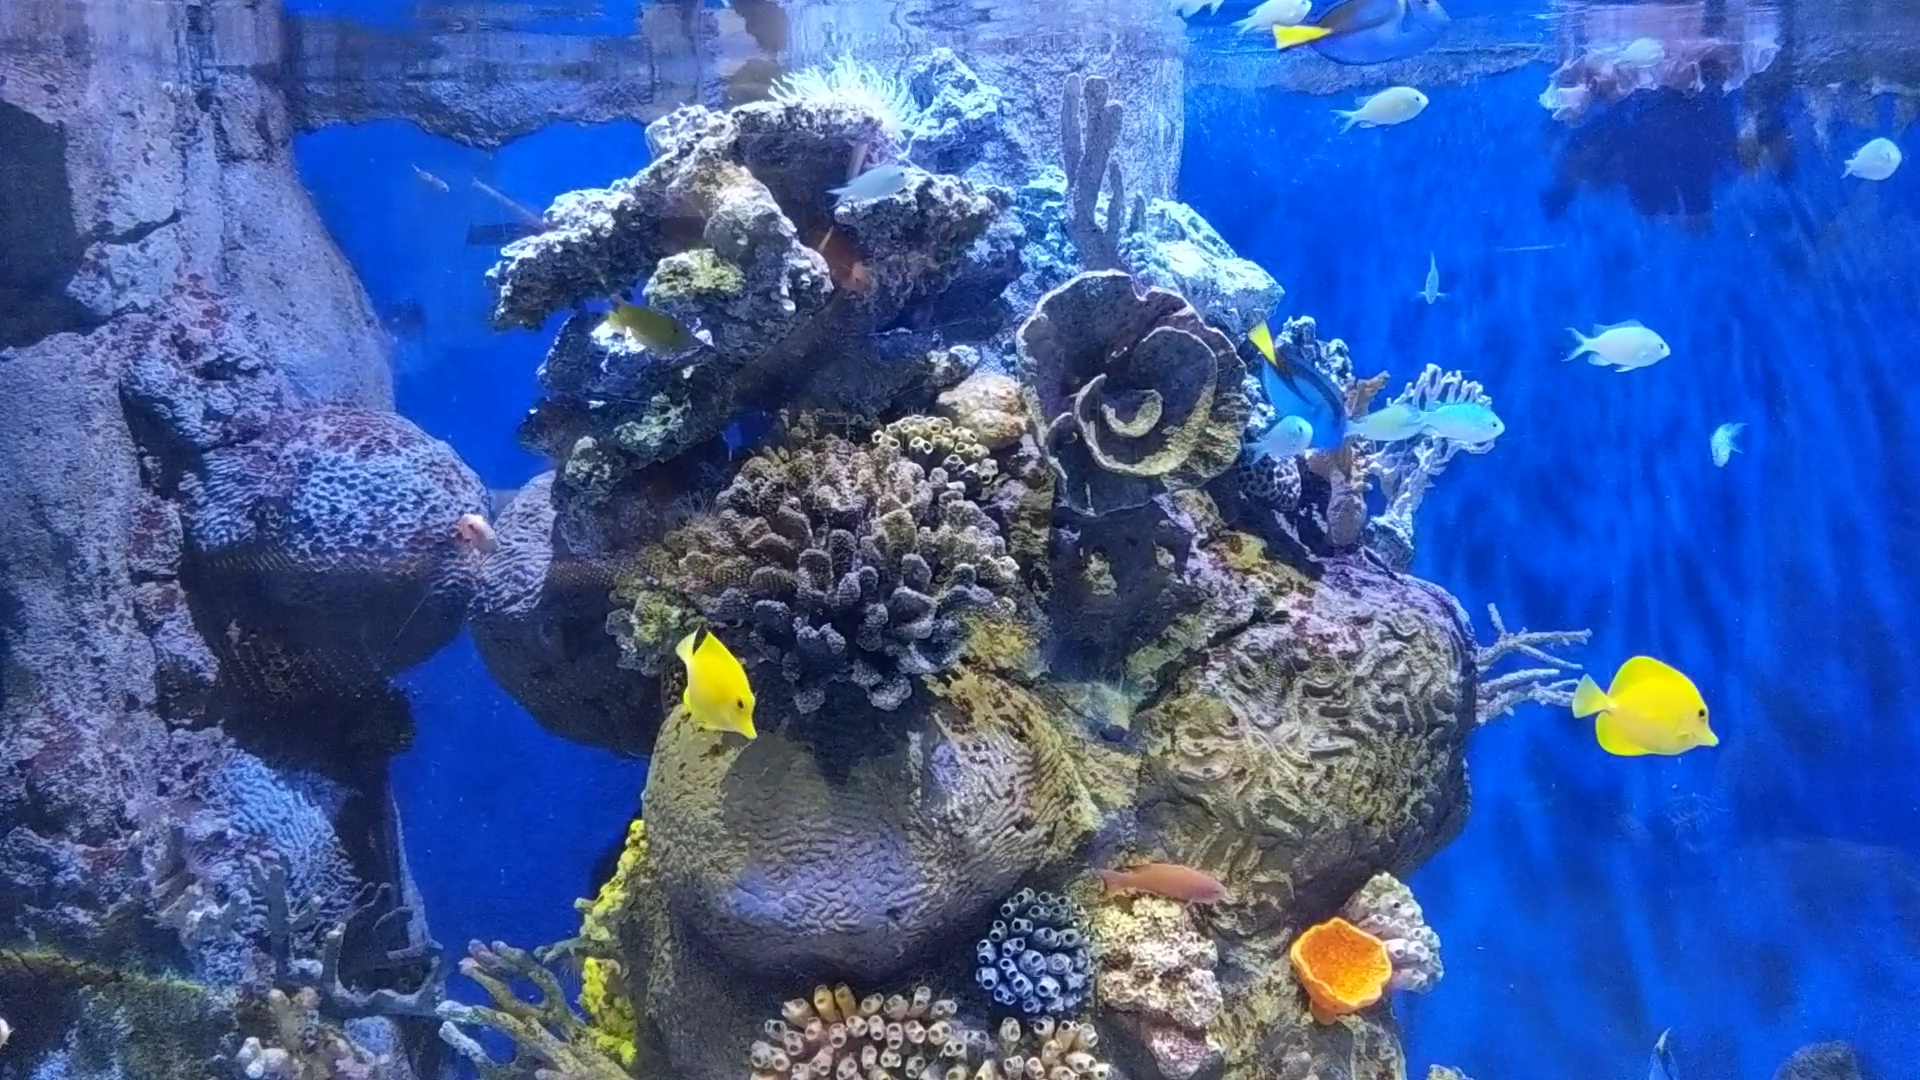blue tang surgeonfish: (1236, 316, 1361, 465), (1265, 7, 1478, 84), (1626, 1007, 1720, 1080)
damselfish: (1348, 390, 1462, 491), (802, 154, 947, 222), (1524, 318, 1730, 364), (1671, 382, 1751, 492), (1410, 401, 1534, 463), (1332, 84, 1455, 146), (1402, 222, 1477, 315), (1238, 396, 1311, 492), (1807, 123, 1909, 179), (1586, 37, 1697, 66), (1220, 0, 1317, 28), (1126, 0, 1218, 22)
saddle butterfly fish: (637, 616, 804, 786), (1545, 644, 1738, 775), (583, 287, 721, 375)
